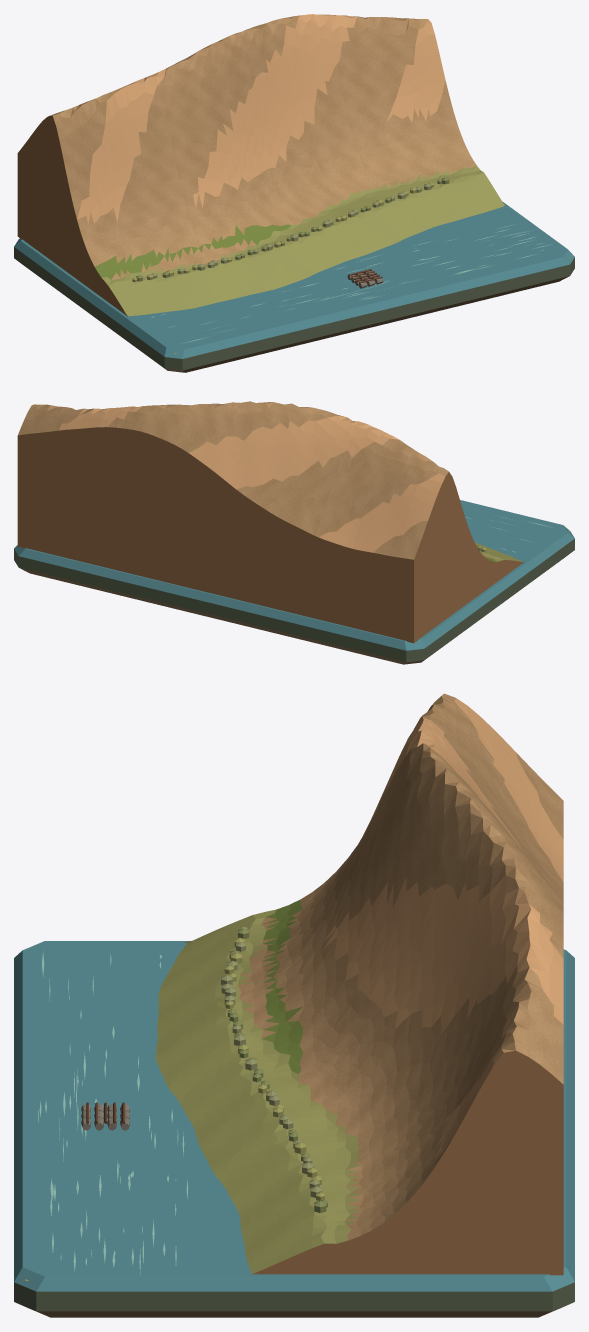
Rendered from shapotou.glb.
The picture shows the model from 3 angles, top to bottom: view 1: azimuth 30°, elevation 25°; view 2: azimuth 150°, elevation 25°; view 3: azimuth 270°, elevation 25°; orthographic projection. The views are drawn at different scales.
Visible parts, largest first — view 1: 沙坡头; view 2: 沙坡头; view 3: 沙坡头.
Boxes of the visible parts, left/top/right/bottom form: 沙坡头: left=14, top=14, right=574, bottom=372; 沙坡头: left=14, top=401, right=574, bottom=664; 沙坡头: left=14, top=693, right=574, bottom=1317.
Bounding box in the file's own units: 6.15 × 2.88 × 4.25.
Materials: 13 (3 with a texture image).
